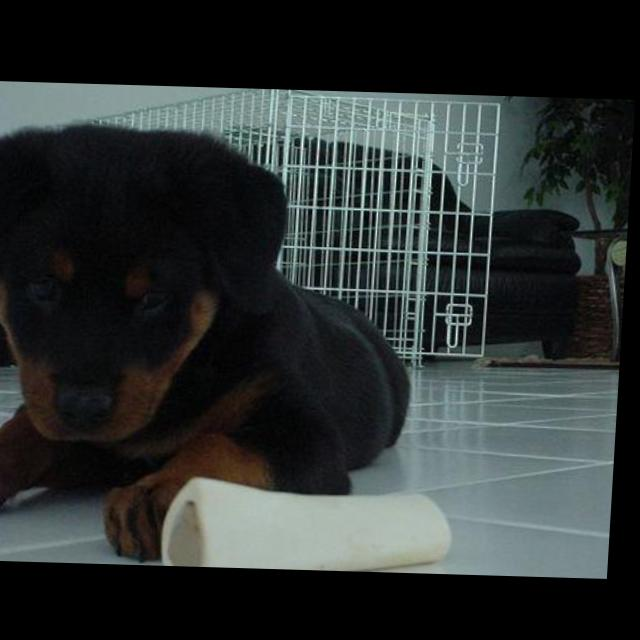rottweiler: (1, 118, 429, 567)
